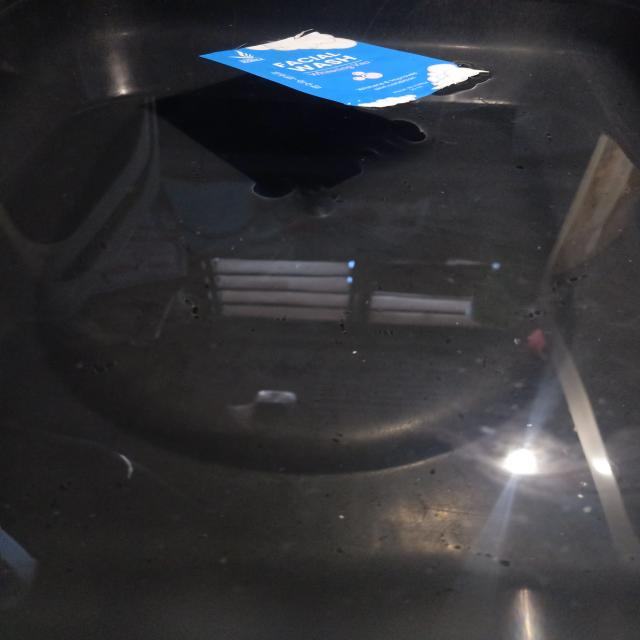Plastic Wrapper: (200, 31, 486, 107)
